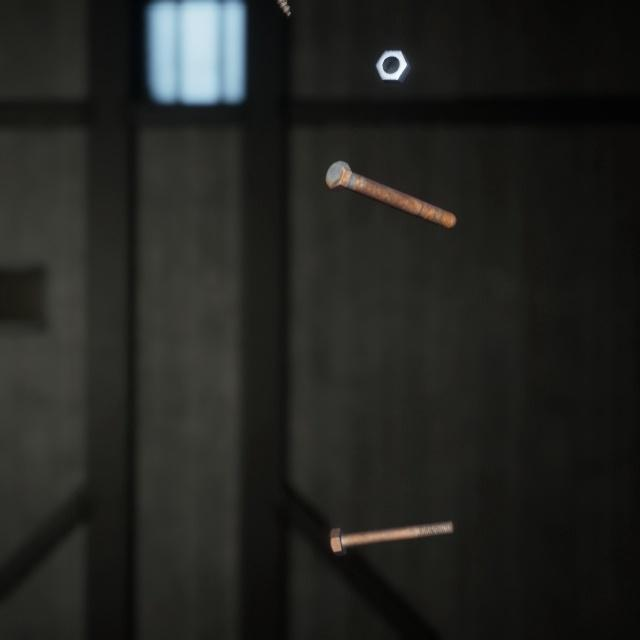bolt: (321, 142, 460, 219), (325, 494, 458, 538)
nut: (370, 36, 415, 78)
